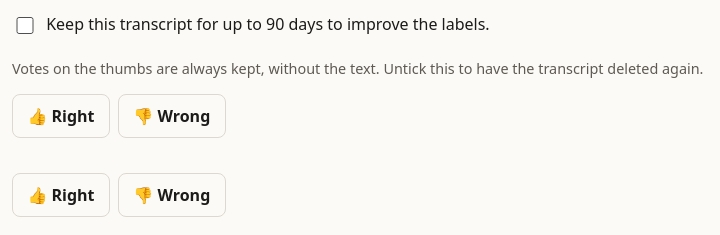
Test: Feedback › sends a thumbs-up without consent and shows it pressed
Click the 1st button "👍 Right".
click(61, 116)  # box [12,94,110,138]
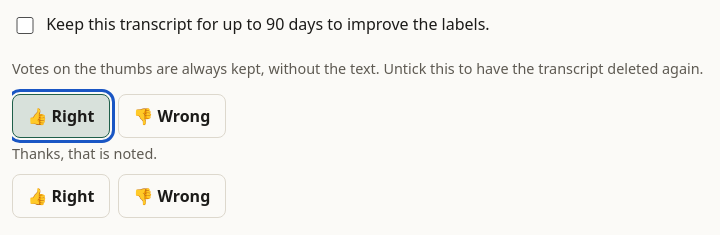
Check: the text "Thanks, that is noted." is shown, box [12,144,157,163]
